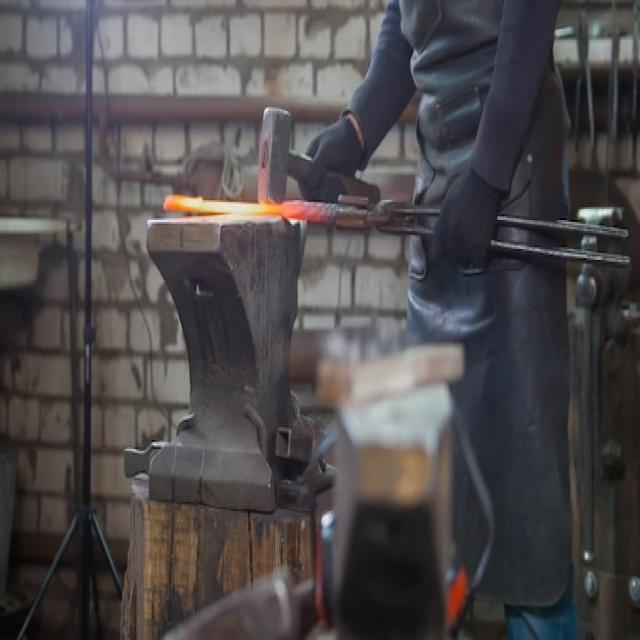hammer: (256, 100, 386, 216)
